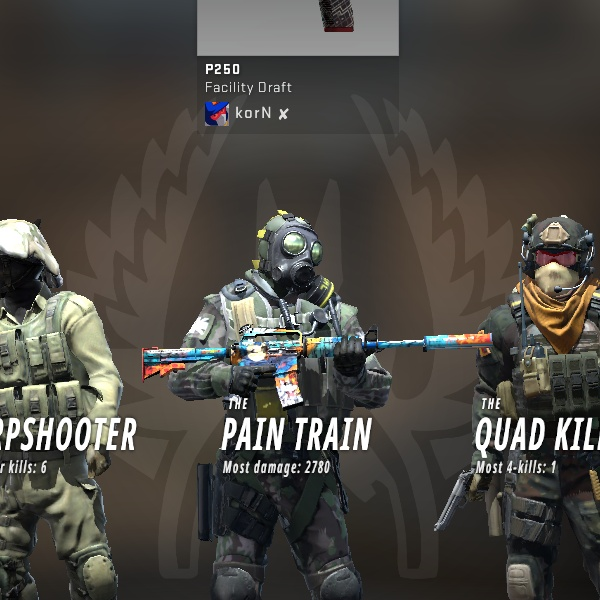ct_body: (158, 204, 383, 588), (425, 186, 590, 600), (0, 196, 153, 600)
ct_head: (509, 201, 596, 311), (0, 211, 61, 323)
